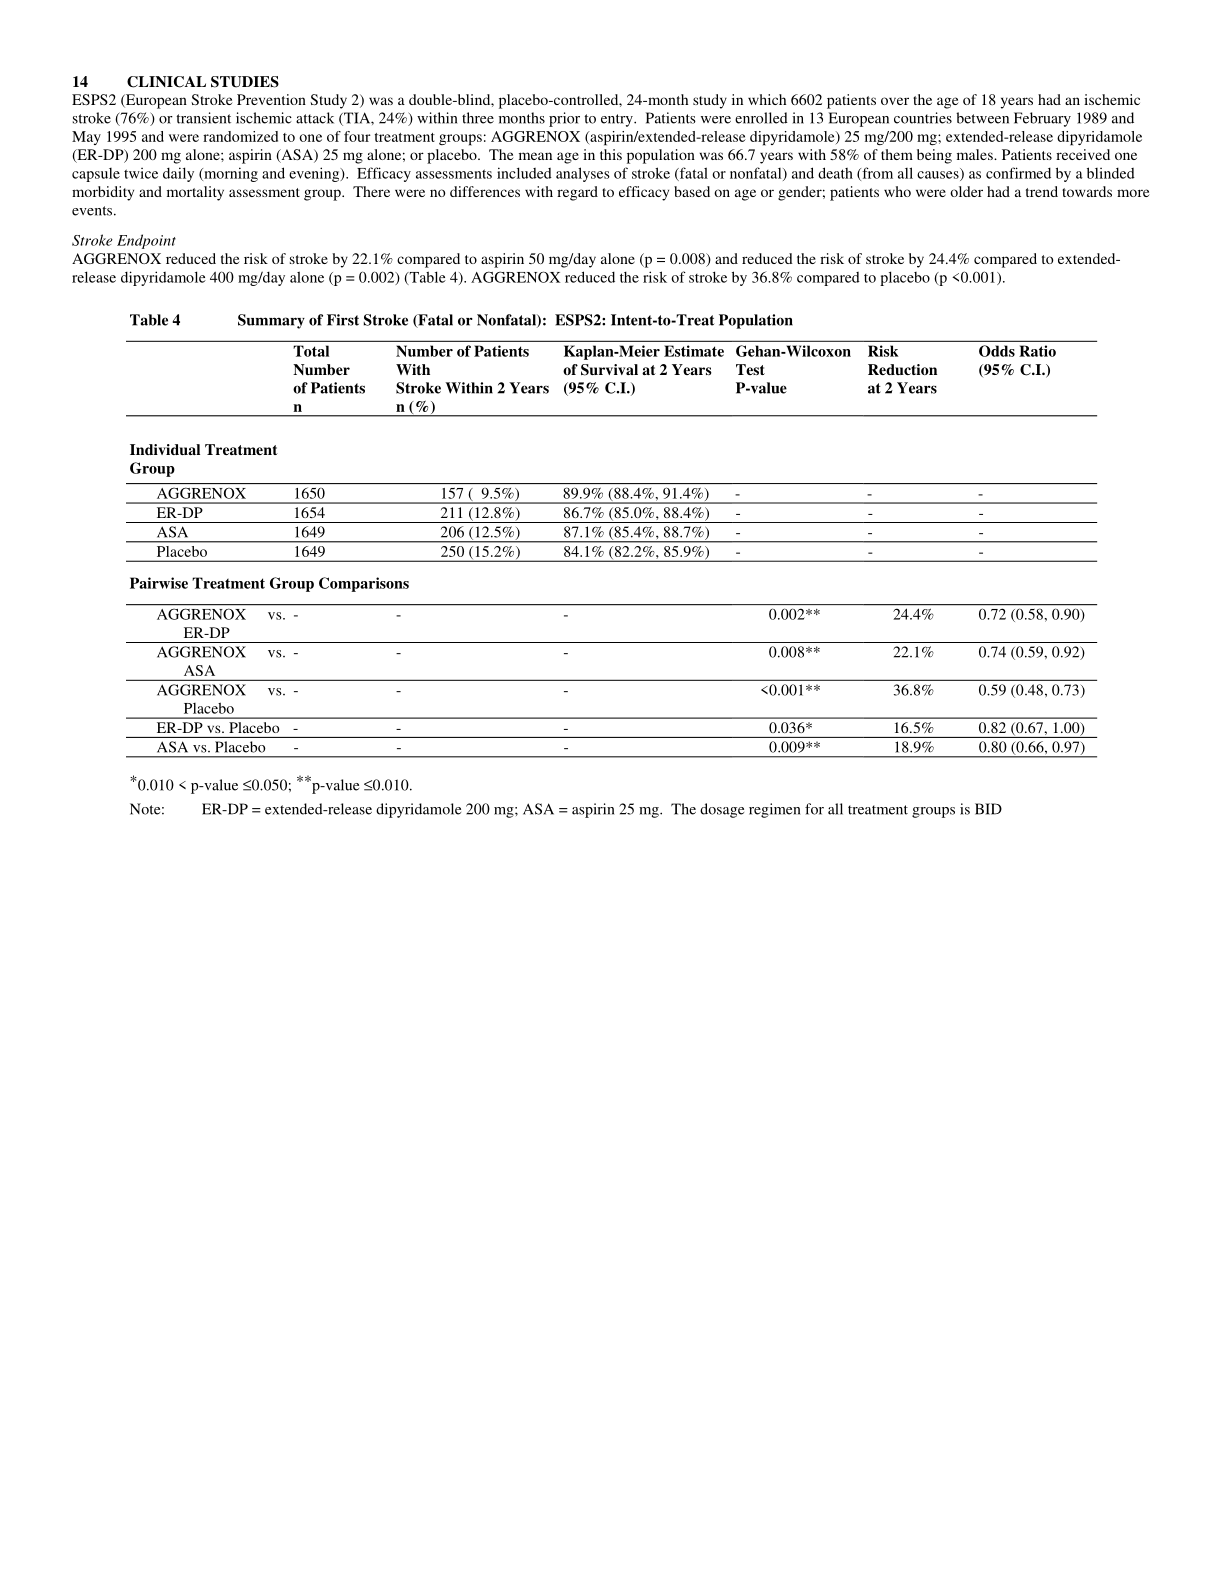partial_lined_merged_cells: (123, 338, 1102, 760)
